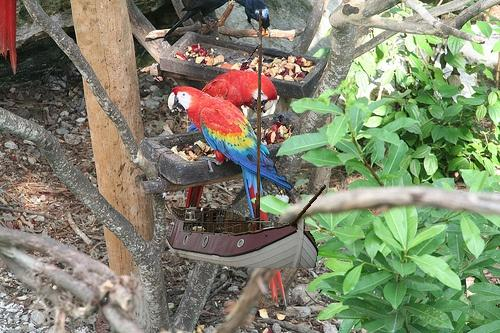tampered: (166, 10, 326, 268)
